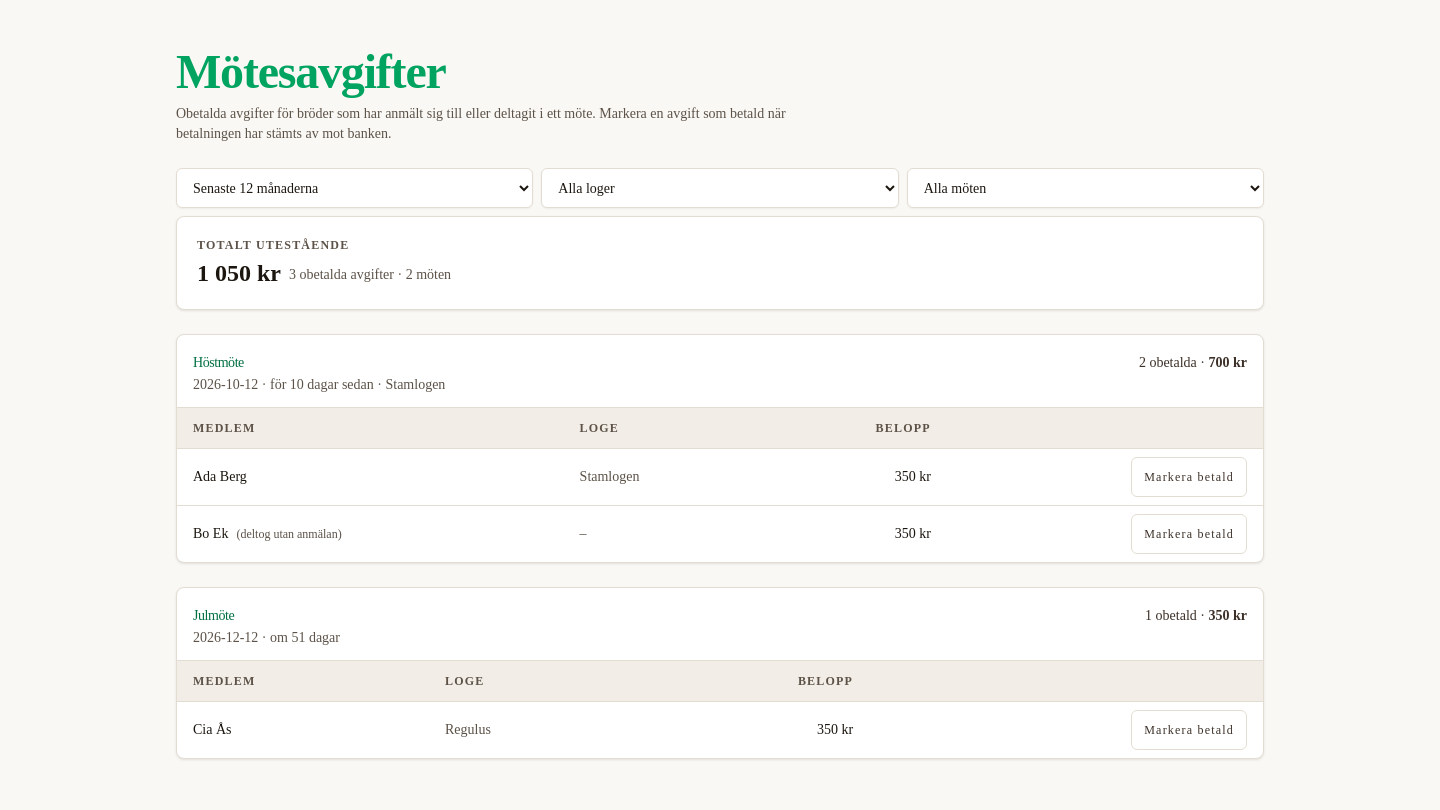
EventPaymentsPage › does nothing when the dialog is cancelled
Expected: the element "Höstmöte" is shown, x1=176 y1=334 x2=1264 y2=563
Step 1. Click the button with aria-label "Markera betald – Cia Ås" → (1189, 730), box x1=1131 y1=710 x2=1247 y2=750
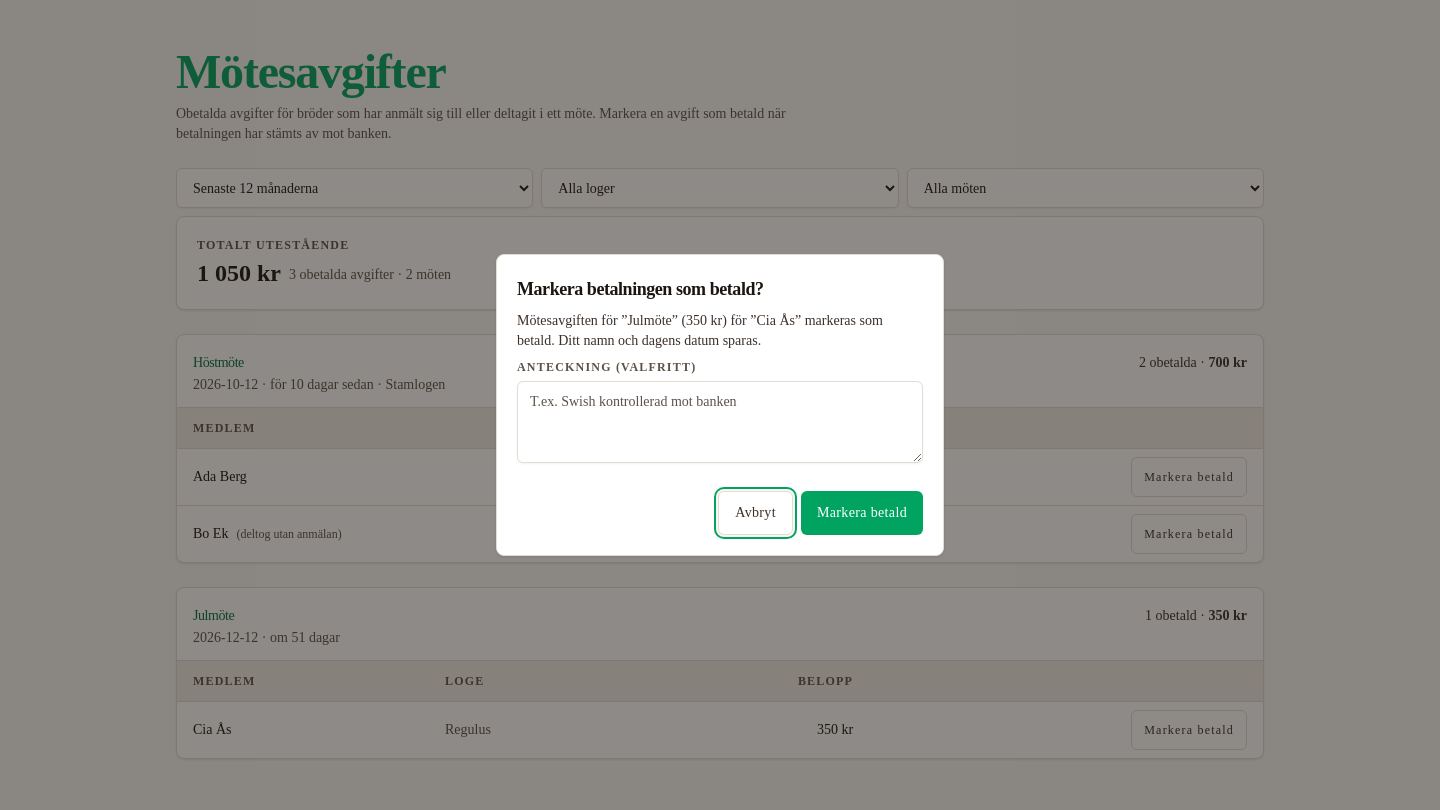
Step 2. Press Escape
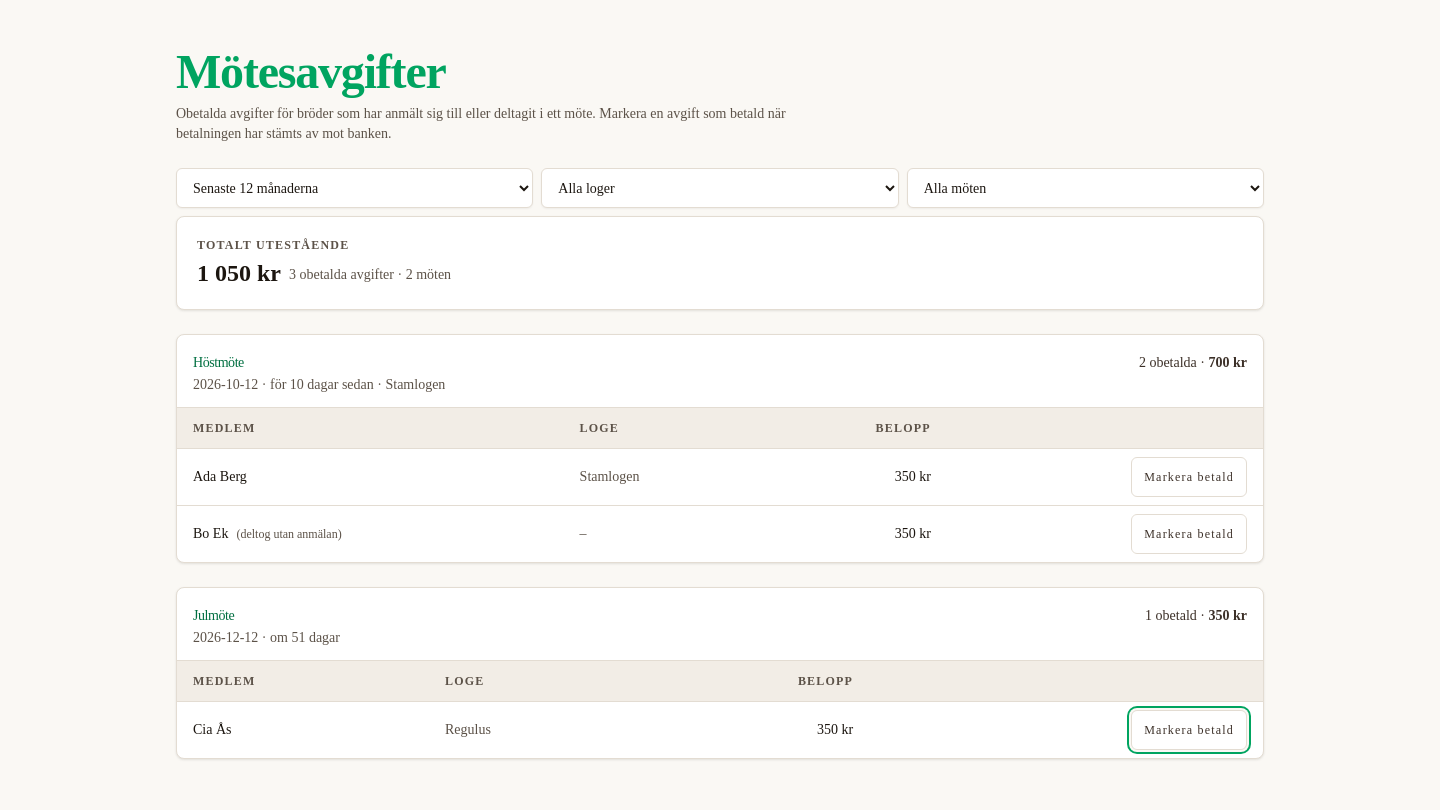
Expected: the dialog is gone
